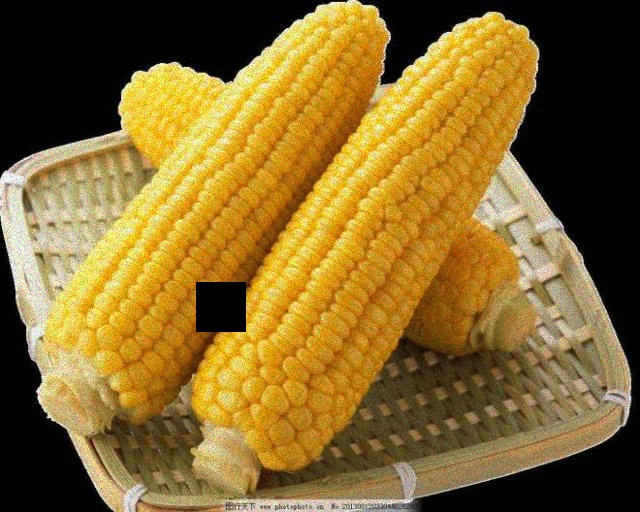corn: (36, 1, 389, 418), (226, 15, 525, 478), (116, 61, 523, 323)
